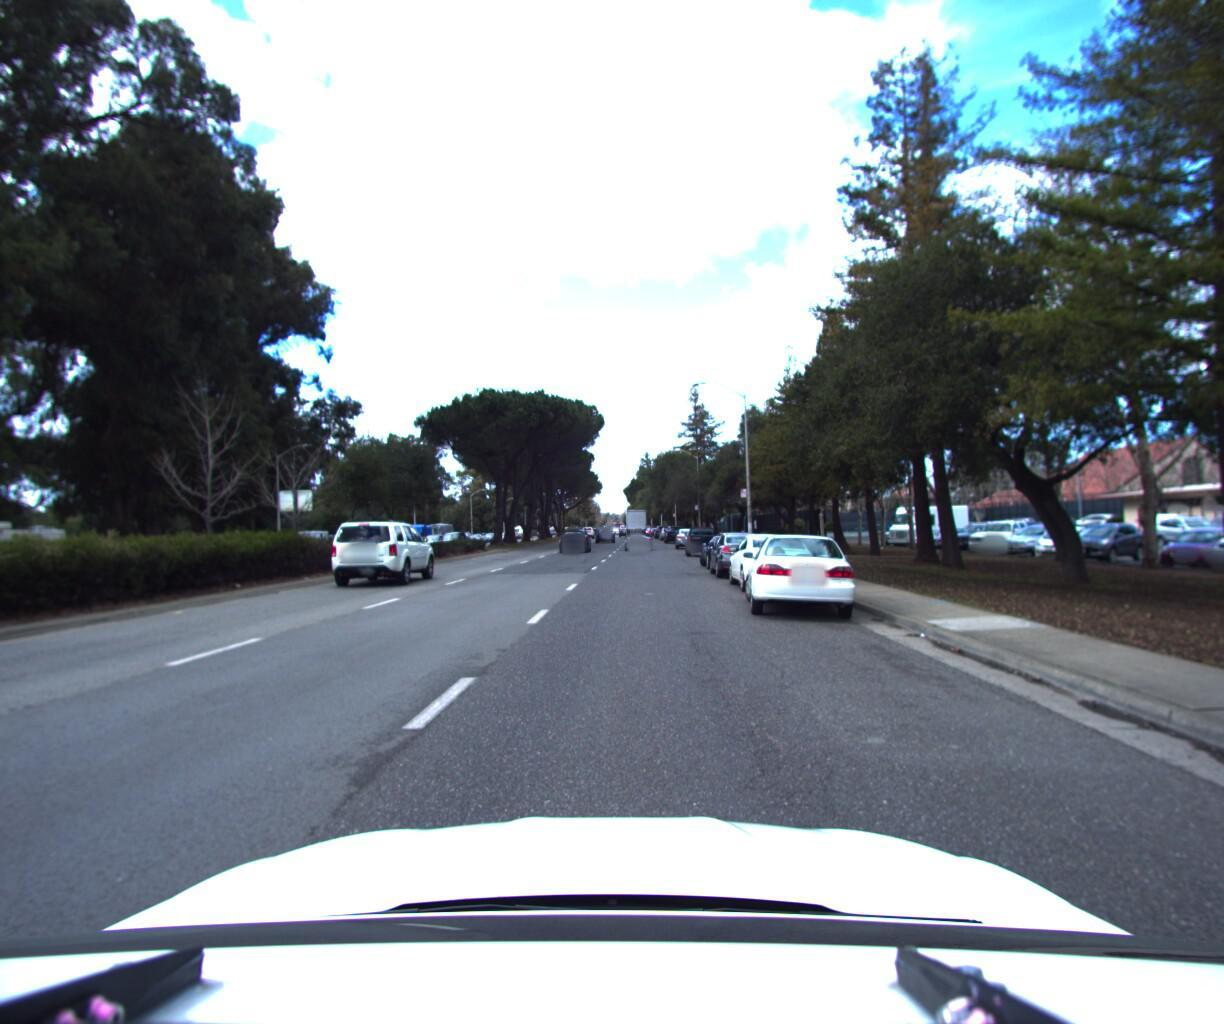car: (741, 527, 869, 625), (324, 519, 447, 591), (723, 530, 824, 593), (707, 529, 777, 579), (698, 532, 758, 570), (685, 524, 723, 557), (559, 529, 594, 556), (622, 525, 655, 553), (674, 527, 705, 550), (595, 527, 617, 542)
other_vehicle: (264, 529, 339, 569)
